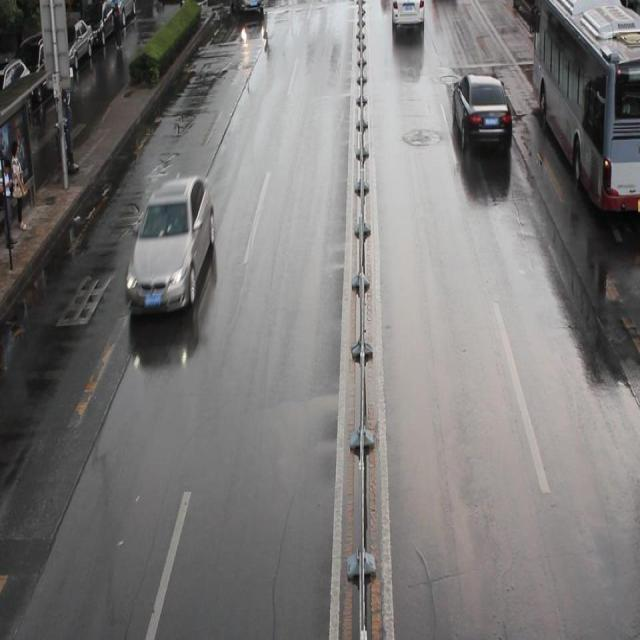car: (126, 177, 216, 314), (452, 72, 512, 147), (390, 1, 424, 24), (233, 1, 263, 14)
van: (531, 1, 640, 211)
